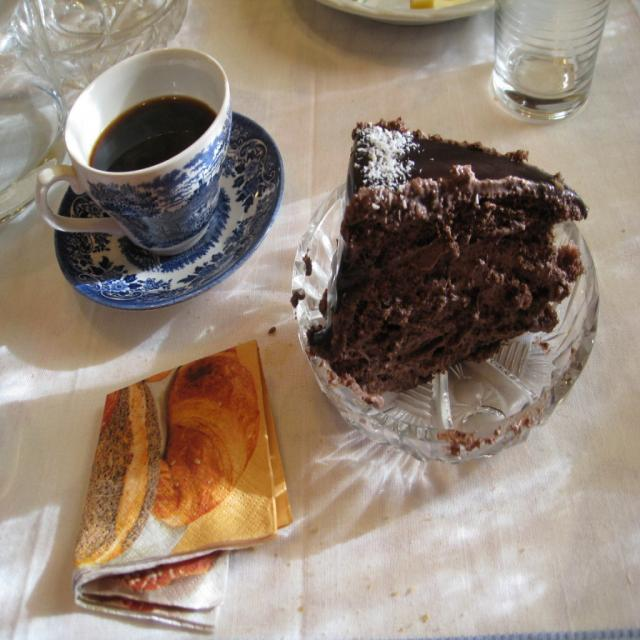Coffee: (85, 94, 216, 174)
Tea: (86, 95, 216, 168)
